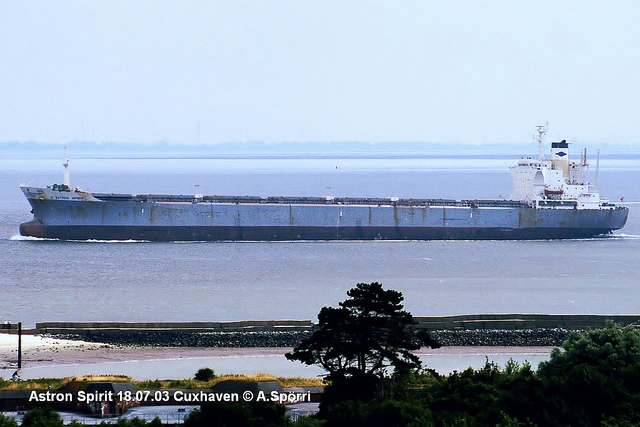bulk carrier: (19, 128, 630, 241)
